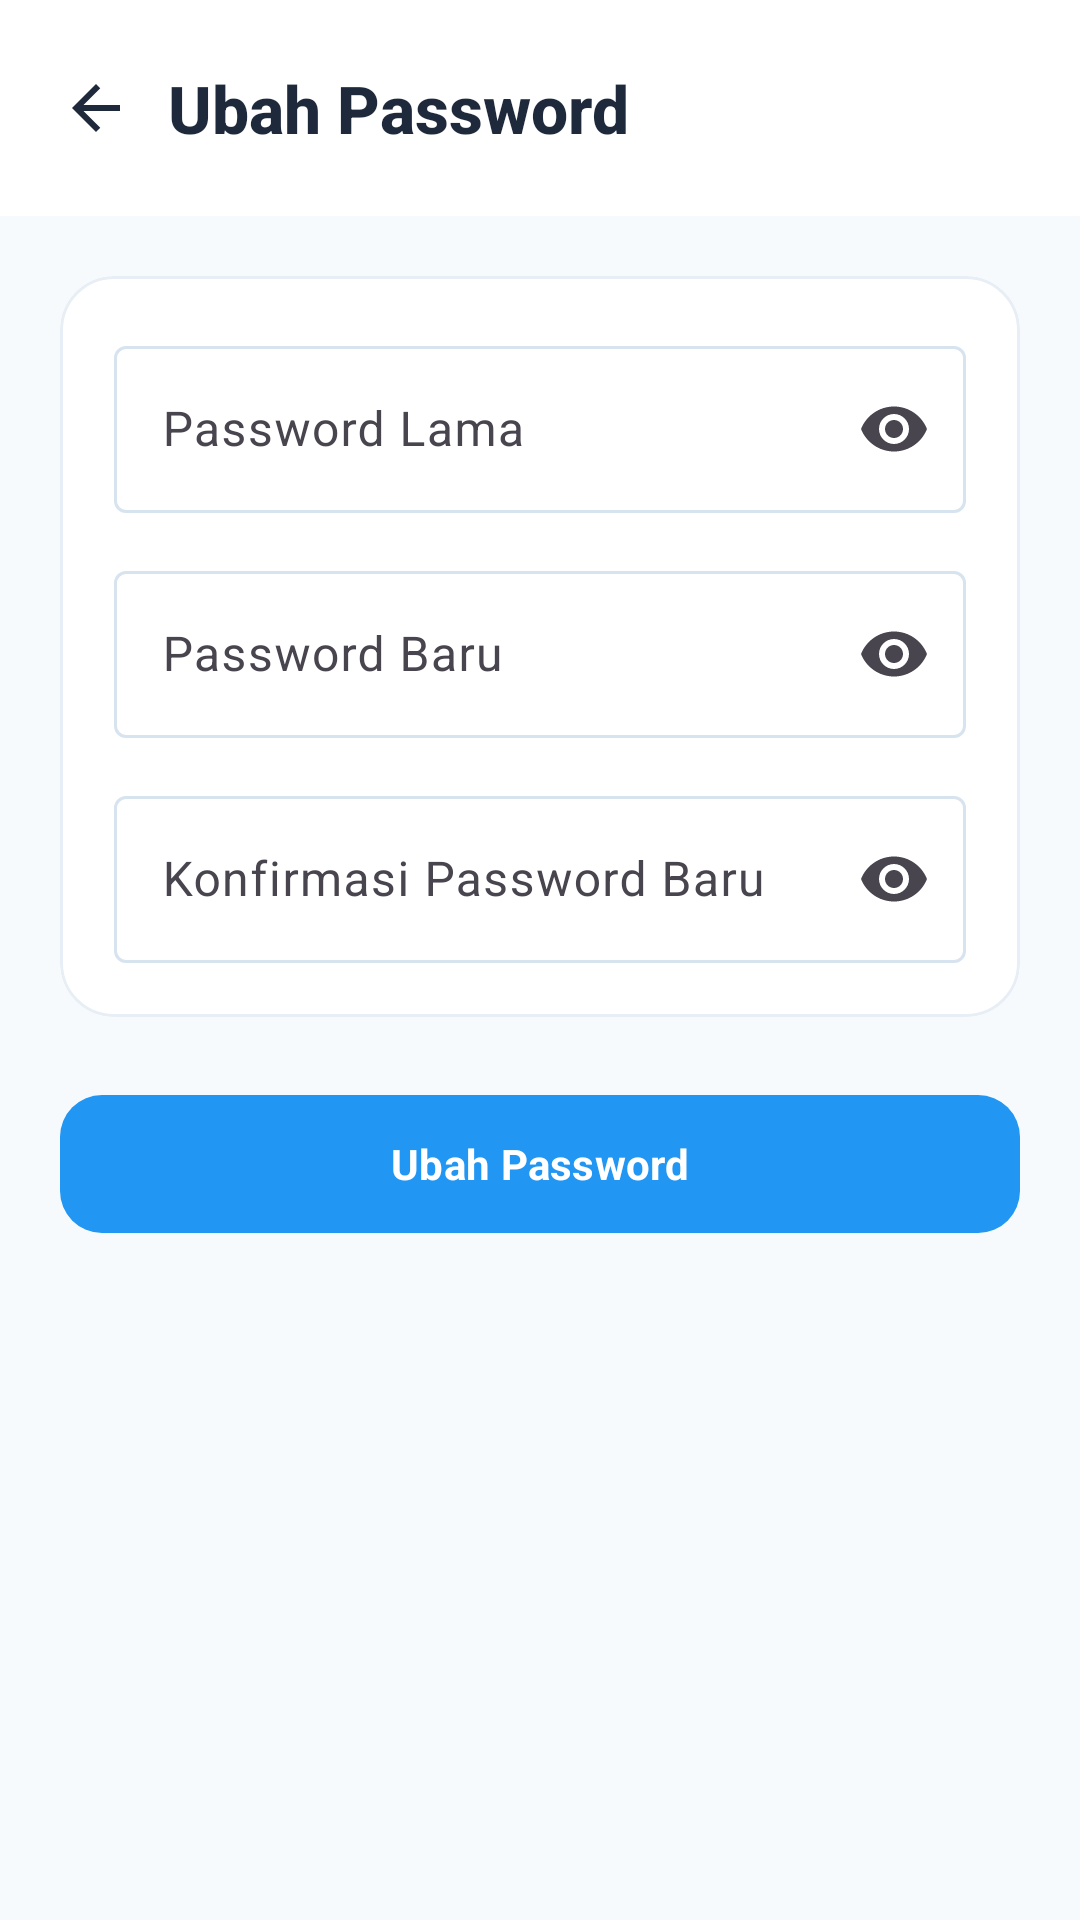

Icon bounding boxes for this 1080 x 1920 phone screenshot, format (x1,y1,x2,y2):
Kembali: (72,84,120,132)
